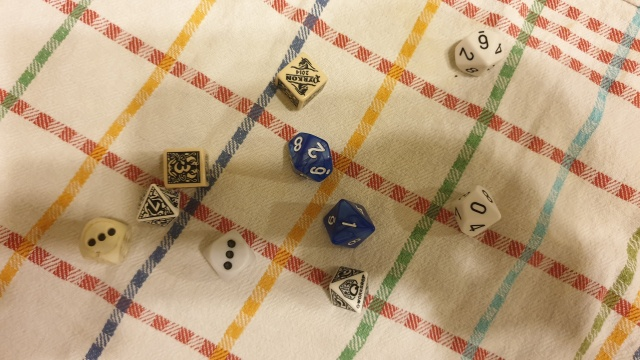d10-1: (322, 196, 377, 254)
d10-10: (449, 181, 505, 243)
d10-2: (284, 127, 336, 188)
d10-6: (451, 23, 509, 81)
d6-3: (75, 211, 132, 267), (202, 226, 257, 282)
d6p-1: (271, 48, 330, 112)
d6p-3: (158, 144, 211, 190)
d8p-7: (131, 179, 182, 231)
d8p-8: (324, 262, 375, 318)
